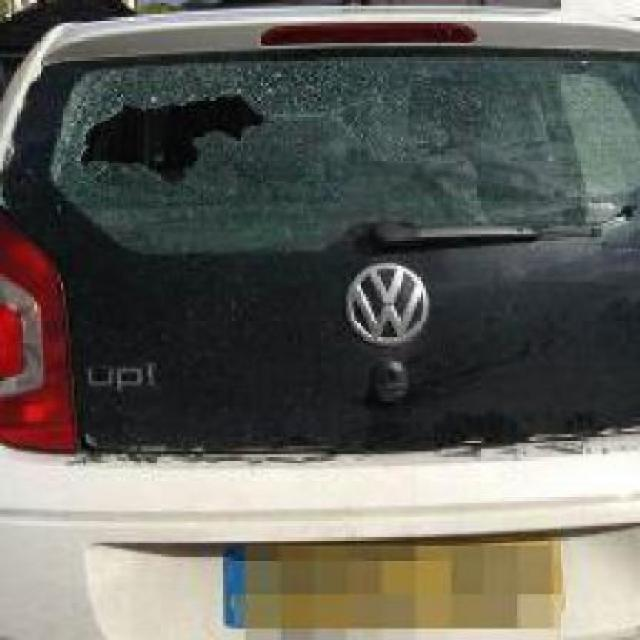damaged-rear-window: (32, 39, 638, 272)
